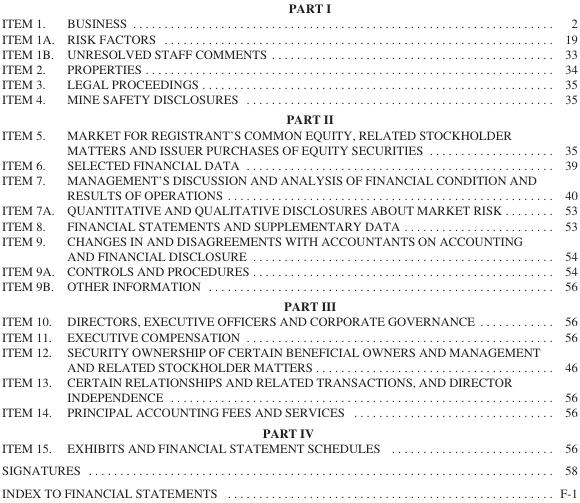table: (1, 0, 576, 499)
table column: (60, 0, 549, 499), (1, 0, 60, 499), (549, 0, 576, 499)
table column header: (1, 0, 576, 30)
table projected row header: (1, 421, 576, 439)
table row: (1, 126, 576, 157), (1, 232, 576, 263), (1, 343, 576, 374), (1, 0, 576, 30), (1, 172, 576, 202), (1, 374, 576, 404), (1, 458, 576, 481), (1, 439, 576, 458), (1, 108, 576, 126), (1, 295, 576, 313), (1, 421, 576, 439), (1, 481, 576, 499), (1, 91, 576, 108), (1, 278, 576, 295), (1, 404, 576, 421), (1, 45, 576, 61), (1, 30, 576, 45), (1, 61, 576, 76), (1, 76, 576, 91), (1, 157, 576, 172), (1, 202, 576, 217), (1, 217, 576, 232), (1, 263, 576, 278), (1, 313, 576, 328), (1, 328, 576, 343)
table spanning cell: (1, 458, 549, 481), (1, 481, 549, 499), (1, 91, 60, 126), (1, 278, 60, 313)
